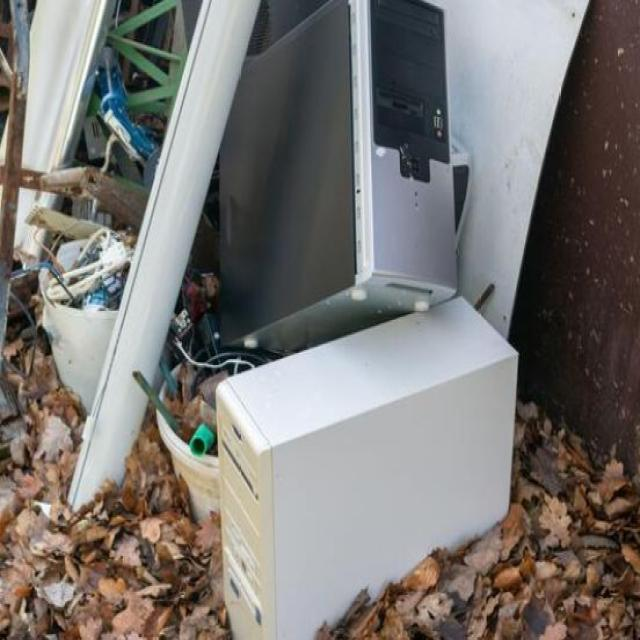electronic: (202, 279, 624, 640), (210, 0, 501, 337)
